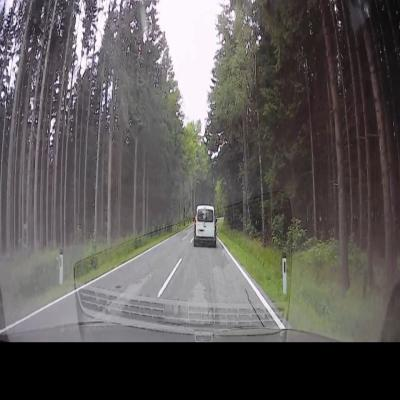clear-road: (92, 225, 248, 302)
